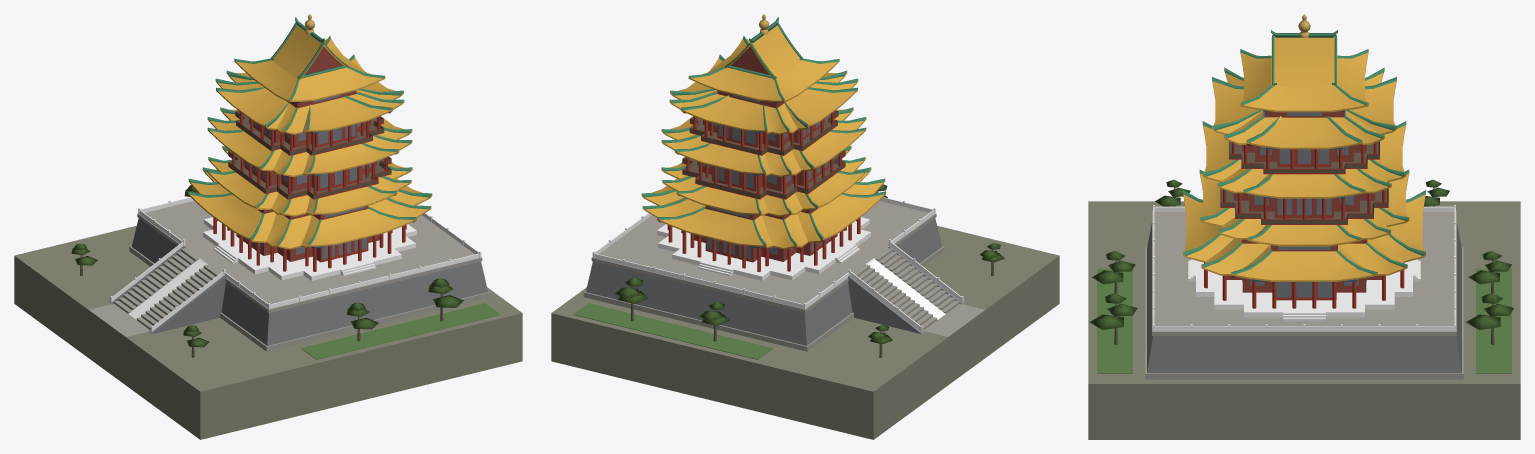
File: top-prebuilt.fbx
3 renders of one model, left to right at view 1: azimuth 30°, elevation 25°; view 2: azimuth 150°, elevation 25°; view 3: azimuth 270°, elevation 25°, orthographic. The views are drawn at different scales.
Visible parts, largest first — view 1: landmark-grand_pavilion/0/top-prebuilt; view 2: landmark-grand_pavilion/0/top-prebuilt; view 3: landmark-grand_pavilion/0/top-prebuilt.
Part boxes in pixels (left/top/right/bottom): landmark-grand_pavilion/0/top-prebuilt: left=14, top=14, right=522, bottom=439; landmark-grand_pavilion/0/top-prebuilt: left=551, top=14, right=1059, bottom=439; landmark-grand_pavilion/0/top-prebuilt: left=1088, top=14, right=1520, bottom=439.
Bounding box in the file's own units: 70 × 64 × 70.
